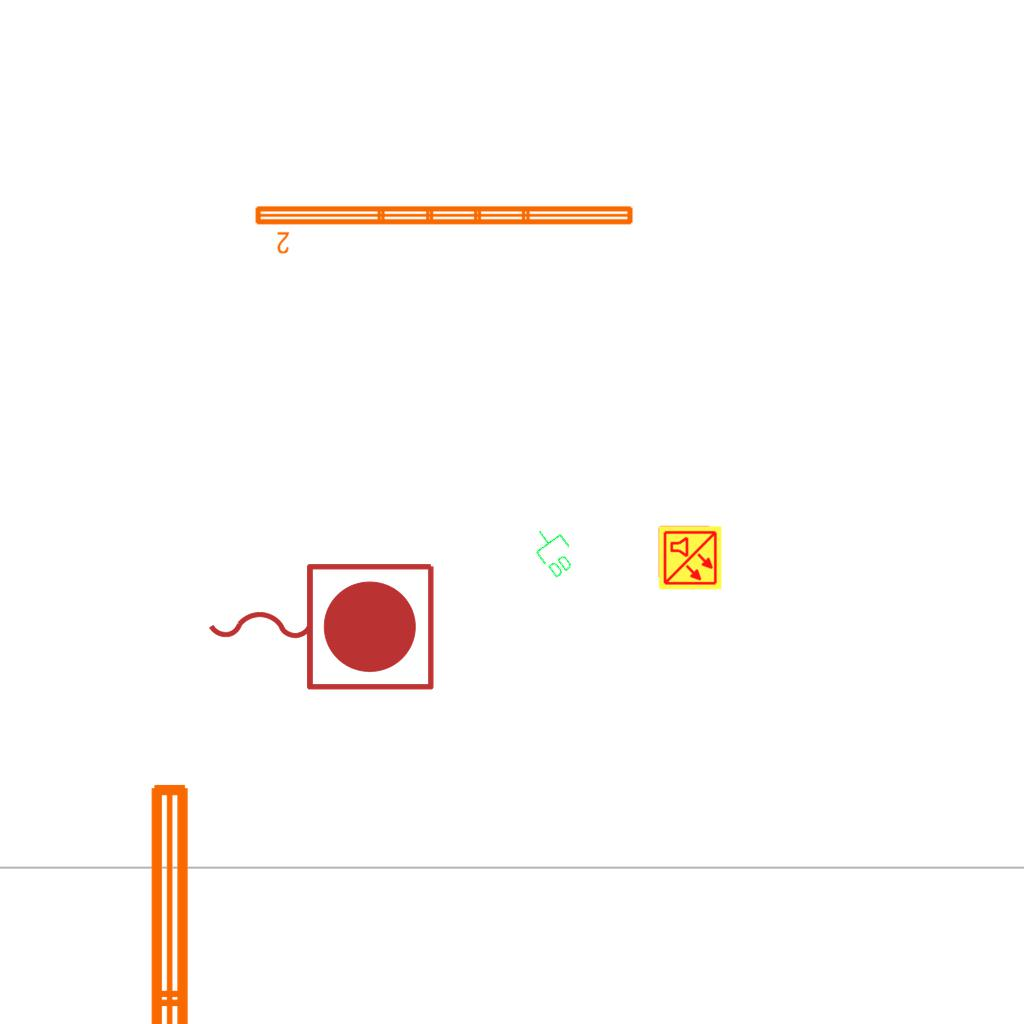Ambulanz_Pendelleuchte_LED: (139, 774, 251, 1024), (251, 200, 638, 256)
Datenanschluss_zweifach: (524, 520, 583, 582)
OKW_Multisensormelder_(Kombination_optischer_Rauch-Kahlenmonoxid_Waerme-Melder): (657, 525, 723, 591)
Zugtaster: (198, 553, 442, 697)
